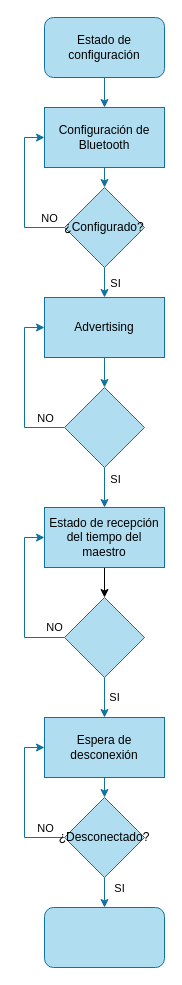
Image size: 182x985. Some labels were removed from this diagram. The centre of each missing label's shape, as x and y in pixels:
Estado comienzo temporizador: pixel 104 937
¿Conectado?: pixel 104 427
¿Tiempo recibido?: pixel 104 637
